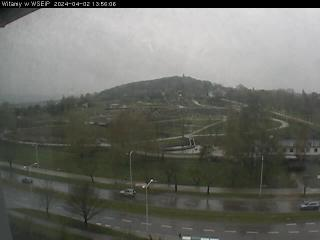car: (299, 199, 320, 210), (118, 187, 136, 198), (20, 176, 32, 184)
